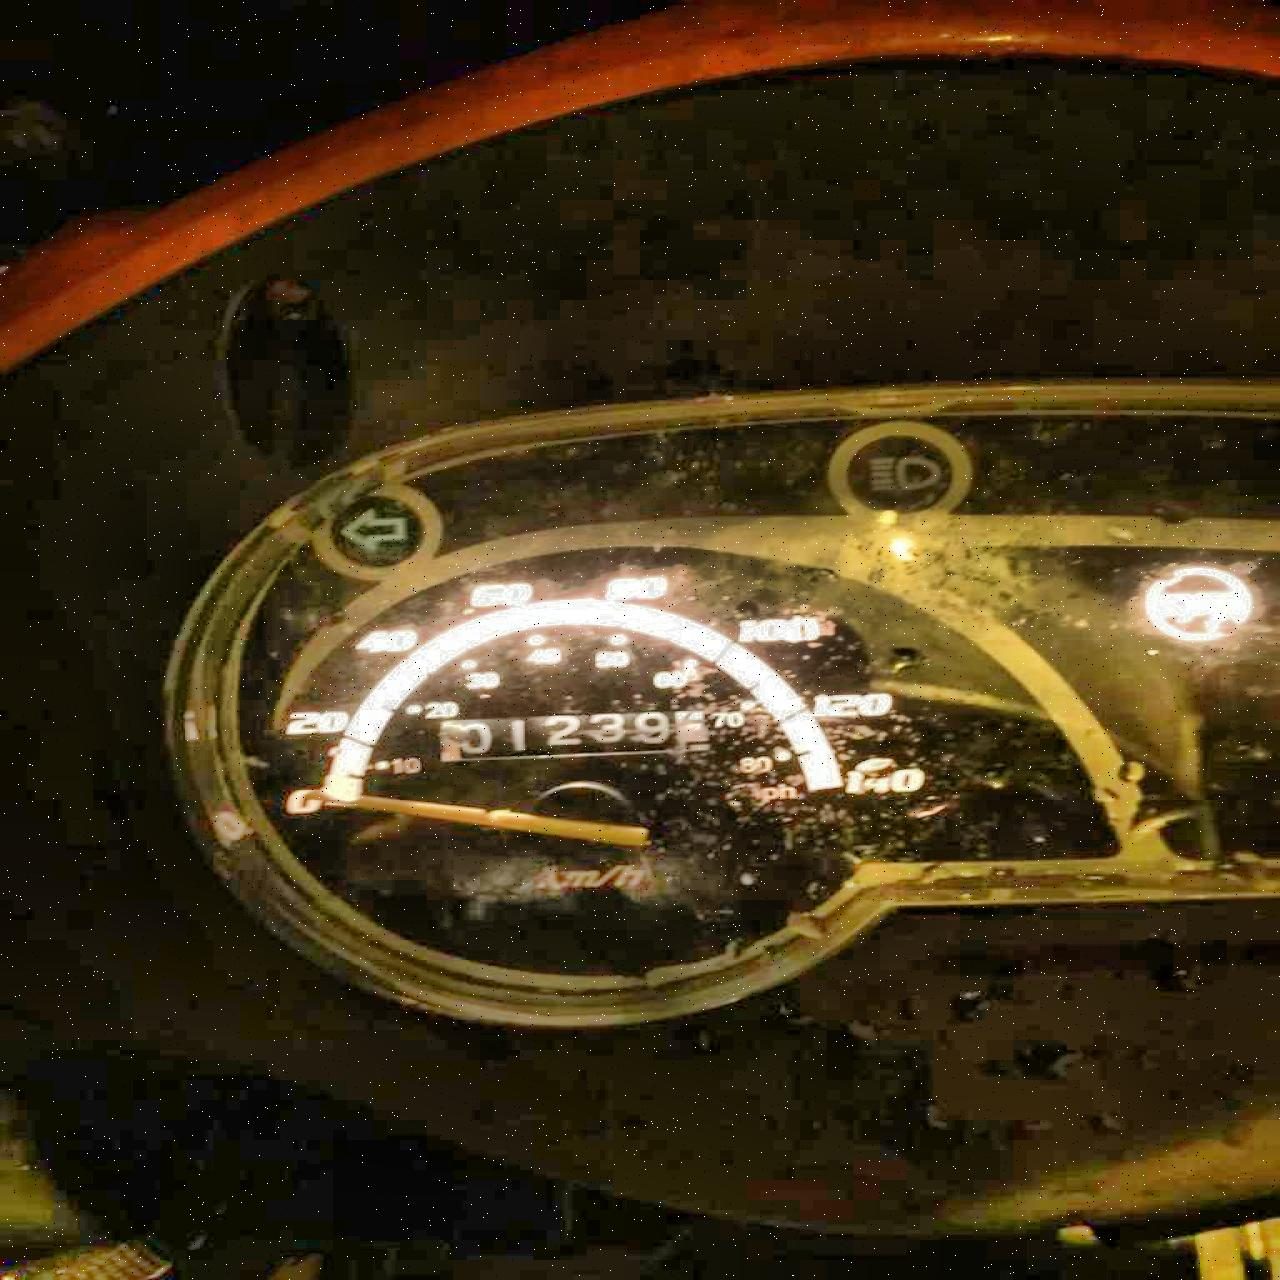0: (455, 720, 492, 755)
1: (503, 715, 530, 756)
2: (542, 713, 584, 747)
3: (588, 712, 625, 742)
4: (683, 710, 708, 729)
5: (683, 740, 710, 761)
9: (632, 712, 670, 744)
odometer: (435, 710, 713, 764)
